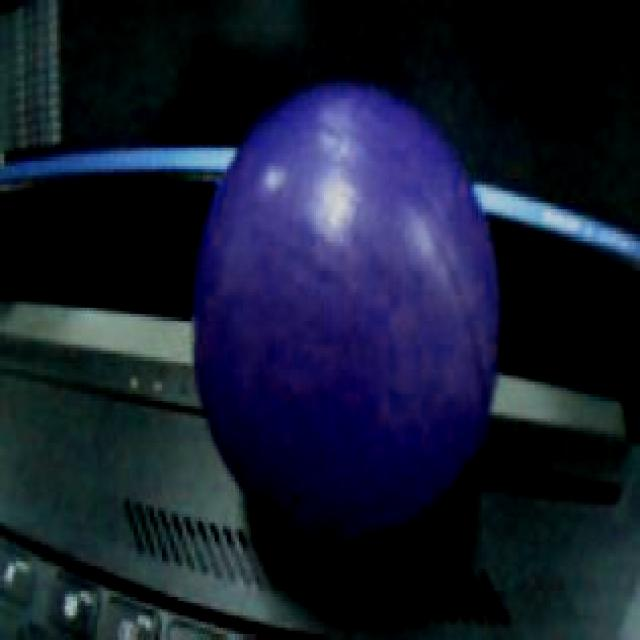BallPurple: (190, 81, 500, 541)
